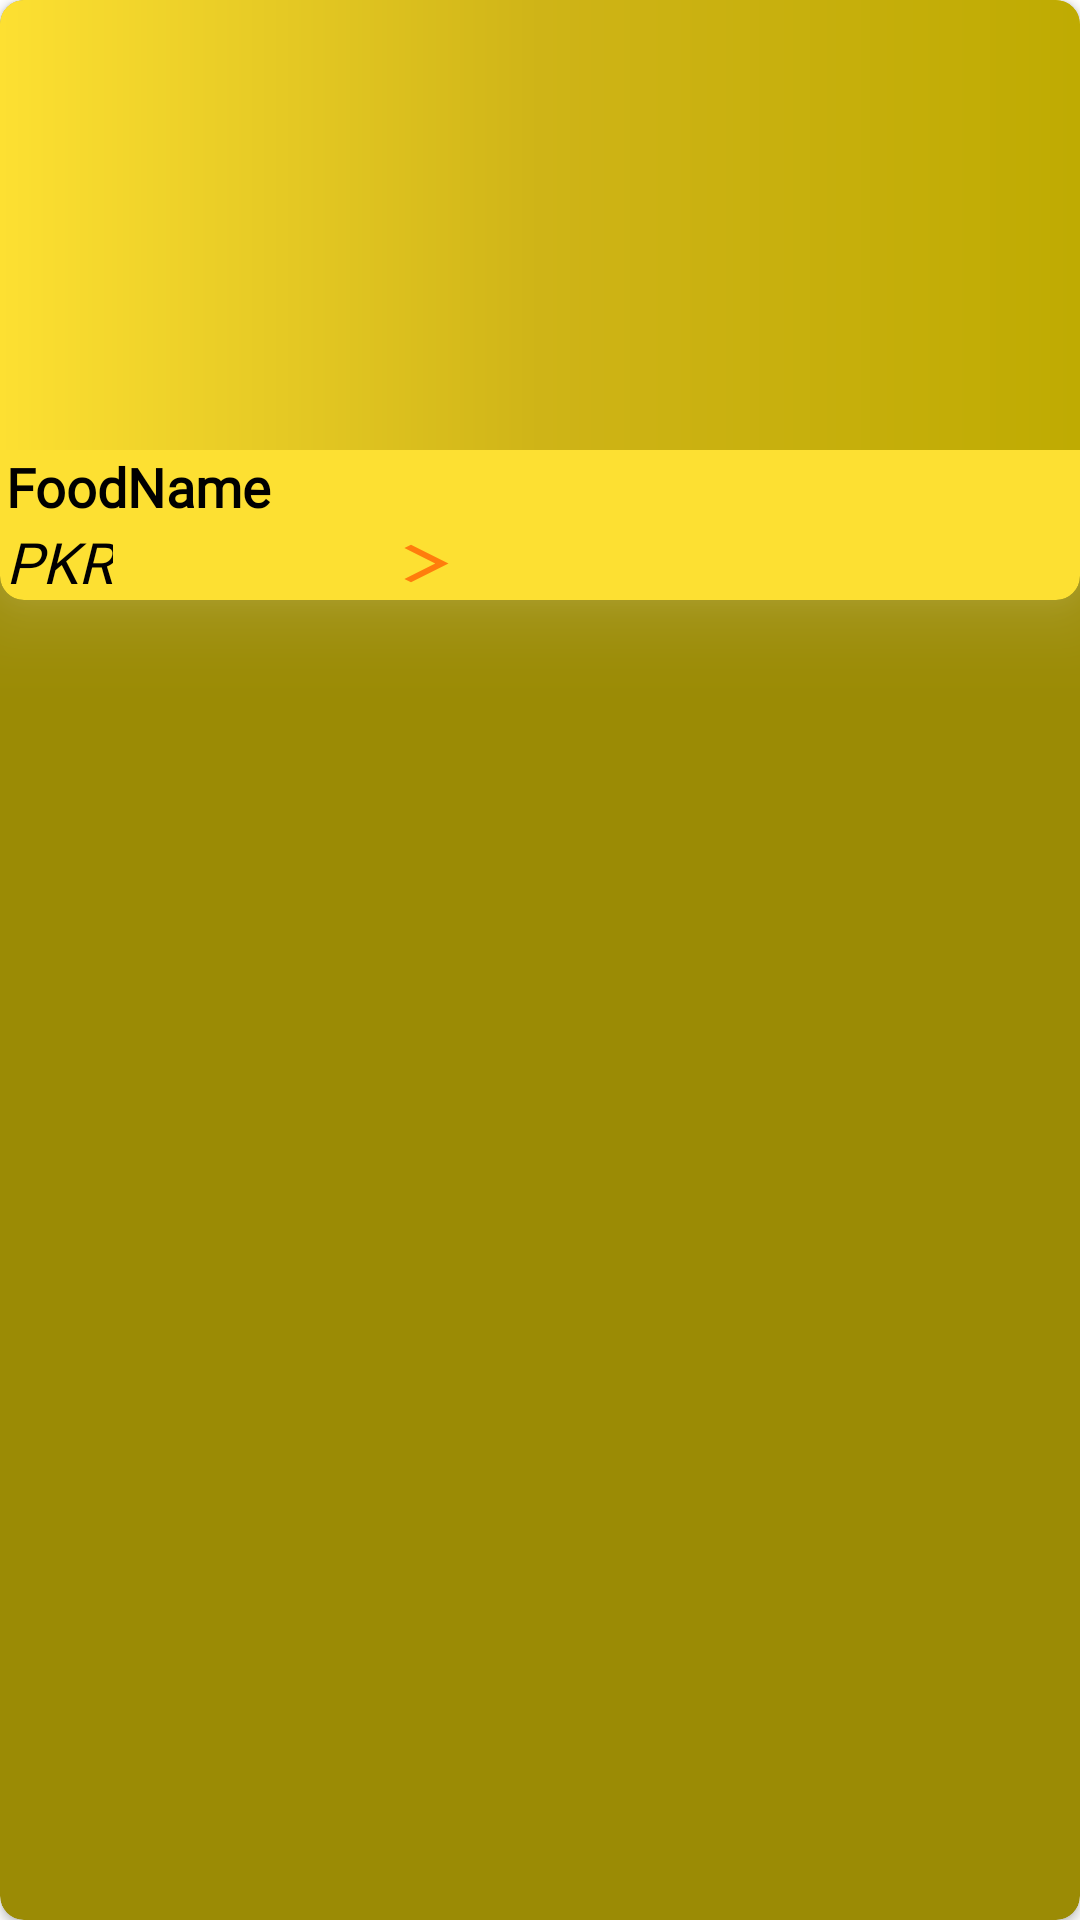

Screen size 1080 × 1920. Icon name, then its center in pixels as (x=x, y=y):
recyclerview item layout arrow: (x=426, y=563)
